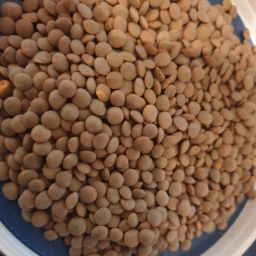Black Lentil(masoor daal): (5, 93, 256, 256), (1, 1, 256, 157)
